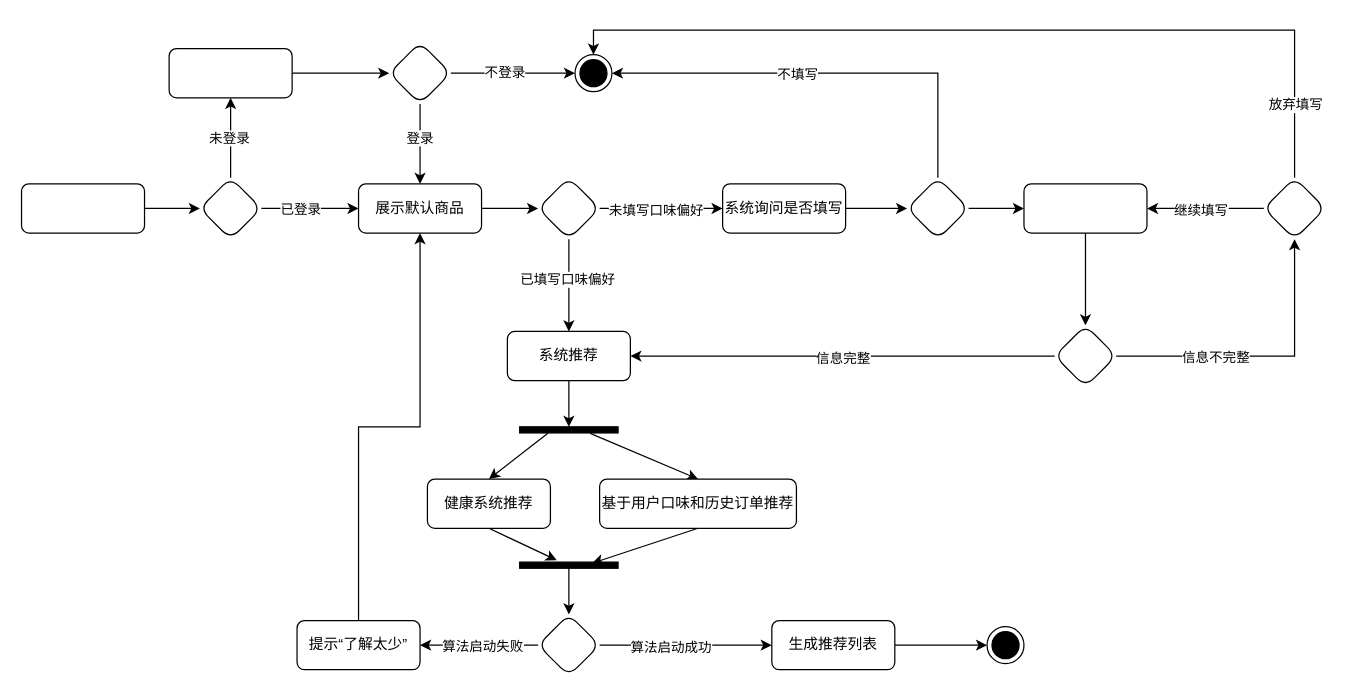
This 1347x697 diagram has some shape labels left out. The shapes that lost their labels are listed below. From the top down, each one's box as (x1, y1, x2, y2) in pixels, then its label:
(168, 47, 292, 98): 进入登录页面
(20, 183, 145, 233): 顾客进入推荐页面
(1023, 183, 1147, 233): 顾客填写口味偏好
